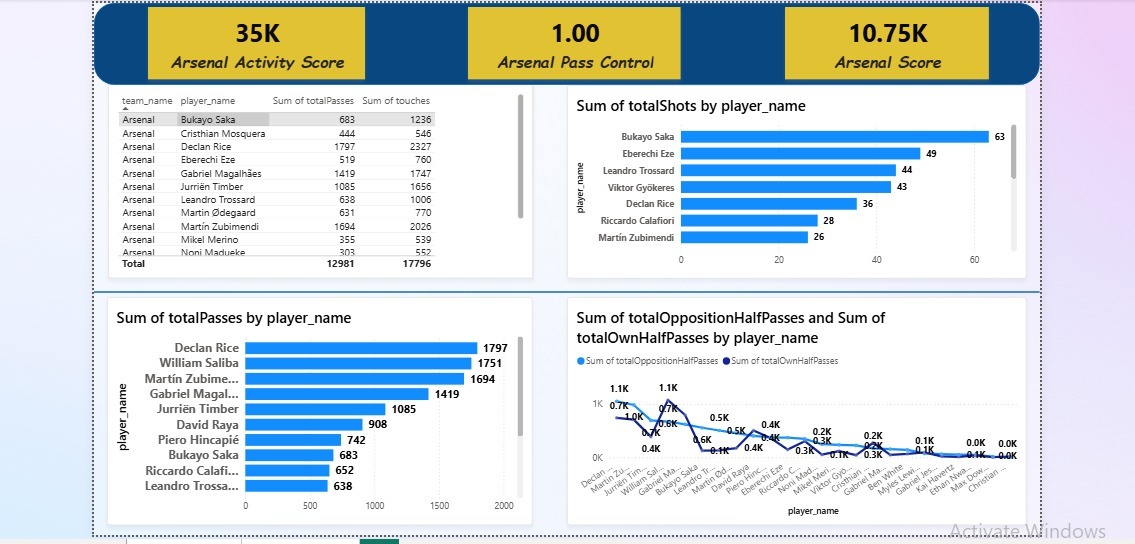

Layout of this report page (visuals, bound fields, positions):
{"tool":"powerbi","page":{"name":"Arsenal Player","canvas":[1280,720],"ordinal":1},"visuals":[{"type":"tableEx","fields":{"Values":["premier_league_complete_stats_until31thGameDayOnSeason2025-26.team_name","premier_league_complete_stats_until31thGameDayOnSeason2025-26.player_name","Sum(premier_league_complete_stats_until31thGameDayOnSeason2025-26.totalPasses)","Sum(premier_league_complete_stats_until31thGameDayOnSeason2025-26.touches)"]},"box":[18.9,109.8,575.6,263.2],"z":0},{"type":"clusteredBarChart","fields":{"Category":["premier_league_complete_stats_until31thGameDayOnSeason2025-26.player_name"],"Y":["Sum(premier_league_complete_stats_until31thGameDayOnSeason2025-26.totalPasses)"]},"box":[18.2,397.3,576.3,309.4],"z":1000},{"type":"clusteredBarChart","fields":{"Category":["premier_league_complete_stats_until31thGameDayOnSeason2025-26.player_name"],"Y":["Sum(premier_league_complete_stats_until31thGameDayOnSeason2025-26.totalShots)"]},"box":[640,110.7,621.8,262.4],"z":2000},{"type":"shape","box":[0,0,1280,110.7],"z":3000},{"type":"cardVisual","fields":{"Data":["epl_team.Arsenal Dominance Score"]},"box":[935.7,6.1,276,98.6],"z":4000},{"type":"lineChart","fields":{"Y":["Sum(premier_league_complete_stats_until31thGameDayOnSeason2025-26.totalOppositionHalfPasses)","Sum(premier_league_complete_stats_until31thGameDayOnSeason2025-26.totalOwnHalfPasses)"],"Category":["premier_league_complete_stats_until31thGameDayOnSeason2025-26.player_name"]},"box":[640,397.3,621.8,309.4],"z":5000},{"type":"cardVisual","fields":{"Data":["epl_team.Arsenal Pass Control"]},"box":[506.5,6.1,288.2,98.6],"z":6000},{"type":"cardVisual","fields":{"Data":["epl_team.Arsenal Activity Score"]},"box":[72.8,6.1,294.2,98.6],"z":7000},{"type":"shape","box":[0,383.7,1280,13.6],"z":8000}]}

Visuals, with their boxes on the page's 1280x720 design canvas (x1, y1, x2, y2). These are canvas units, not pixel positions in the 1135x544 screenshot, which may show the page scaled, cropped or inside an application window:
tableEx - premier_league_complete_stats_until31thGameDayOnSeason2025-26.team_name x premier_league_complete_stats_until31thGameDayOnSeason2025-26.player_name: detection(19, 110, 594, 373)
clusteredBarChart - premier_league_complete_stats_until31thGameDayOnSeason2025-26.player_name x Sum(premier_league_complete_stats_until31thGameDayOnSeason2025-26.totalPasses): detection(18, 397, 594, 707)
clusteredBarChart - premier_league_complete_stats_until31thGameDayOnSeason2025-26.player_name x Sum(premier_league_complete_stats_until31thGameDayOnSeason2025-26.totalShots): detection(640, 111, 1262, 373)
shape: detection(0, 0, 1280, 111)
cardVisual - epl_team.Arsenal Dominance Score: detection(936, 6, 1212, 105)
lineChart - Sum(premier_league_complete_stats_until31thGameDayOnSeason2025-26.totalOppositionHalfPasses) x Sum(premier_league_complete_stats_until31thGameDayOnSeason2025-26.totalOwnHalfPasses): detection(640, 397, 1262, 707)
cardVisual - epl_team.Arsenal Pass Control: detection(506, 6, 795, 105)
cardVisual - epl_team.Arsenal Activity Score: detection(73, 6, 367, 105)
shape: detection(0, 384, 1280, 397)
